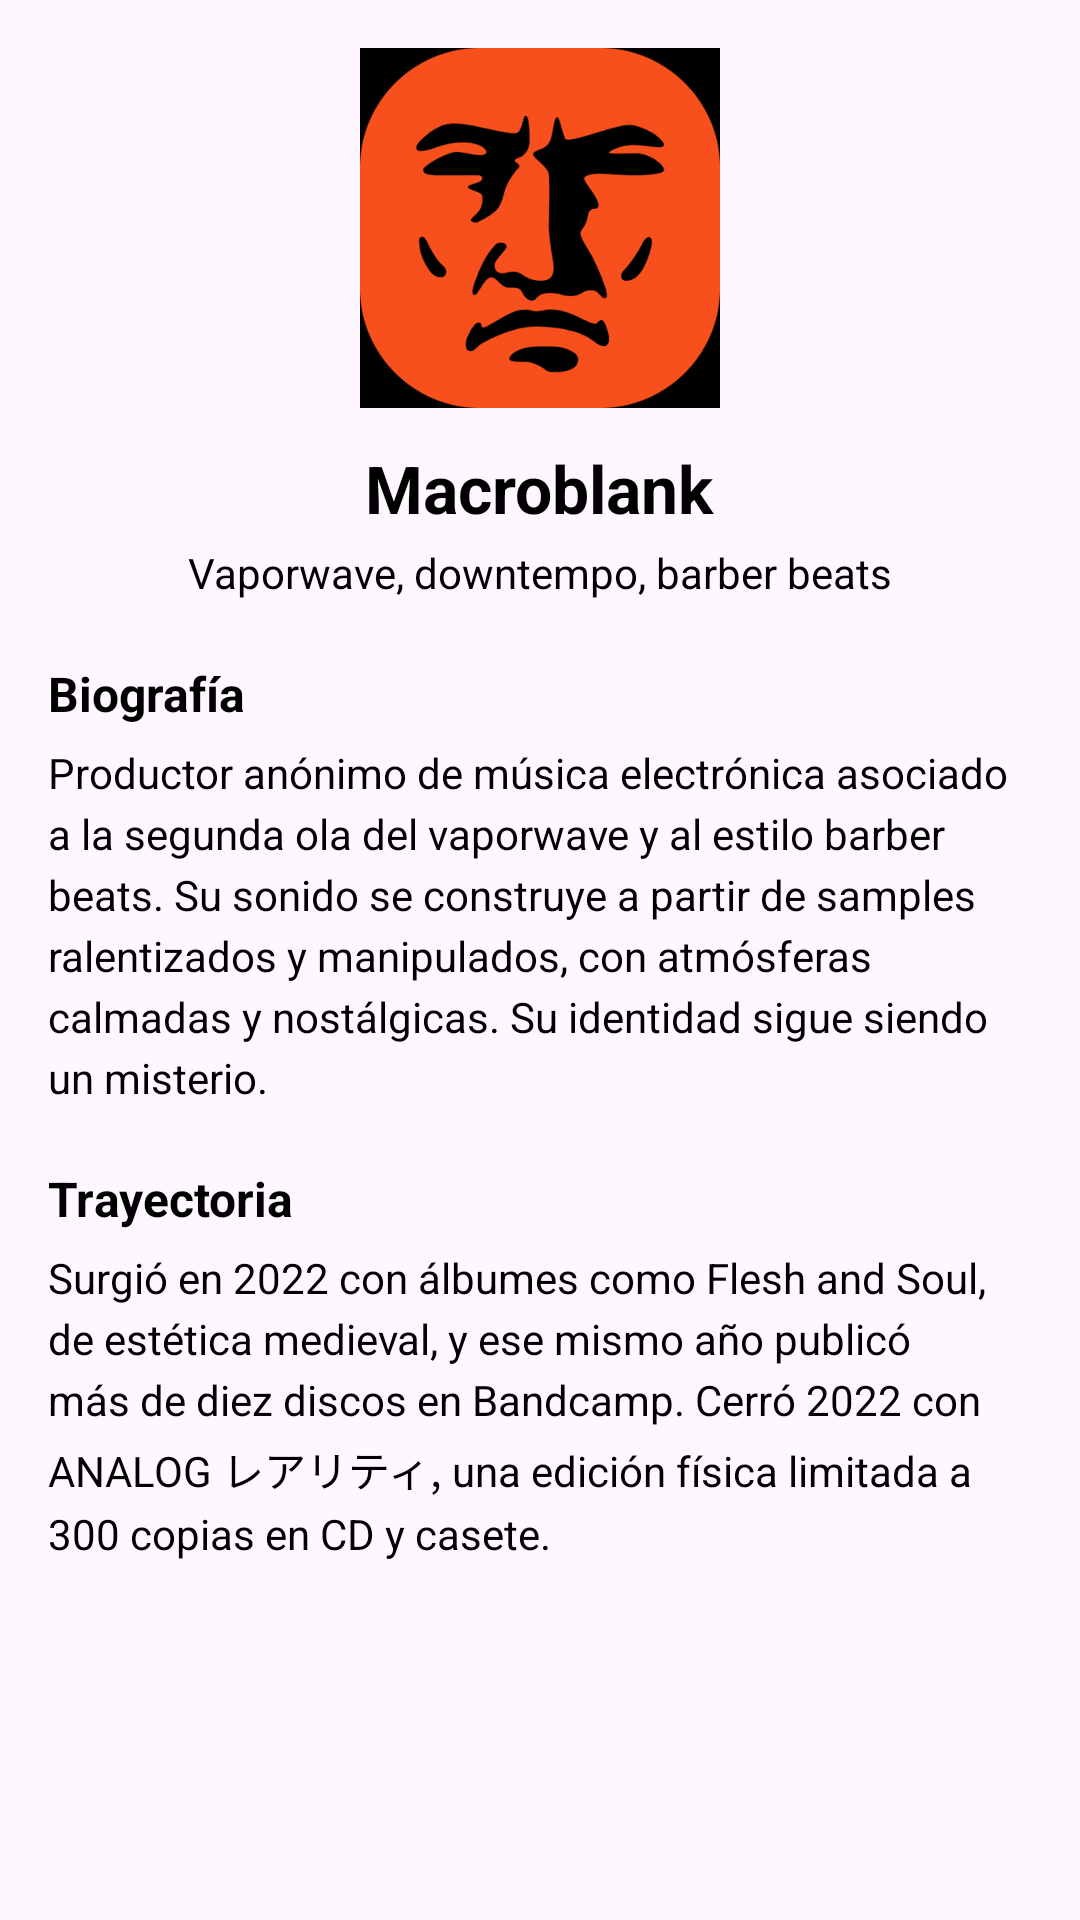

Screen size 1080*1920. Icon name, then its center in pixels as (x=x, y=y):
Foto del artista: (x=540, y=228)
